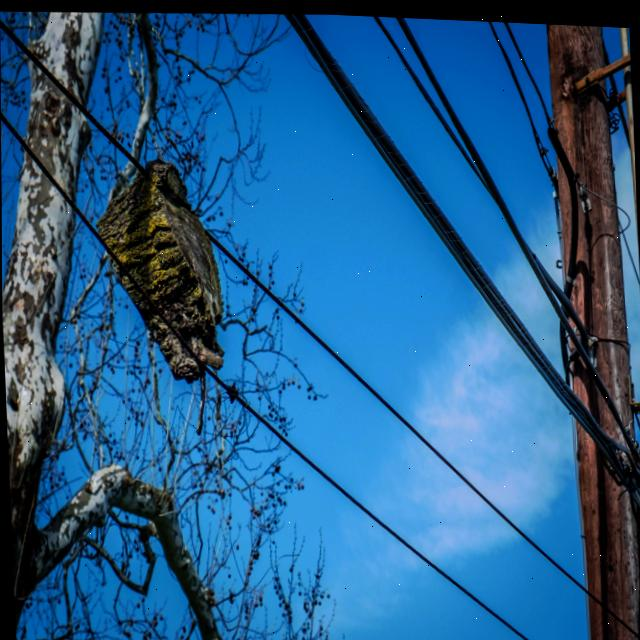obstruction: (97, 157, 223, 380)
wires: (1, 111, 471, 592), (287, 11, 640, 524), (206, 231, 640, 636), (0, 20, 146, 173), (0, 19, 145, 172), (472, 592, 522, 631), (522, 632, 535, 640)
